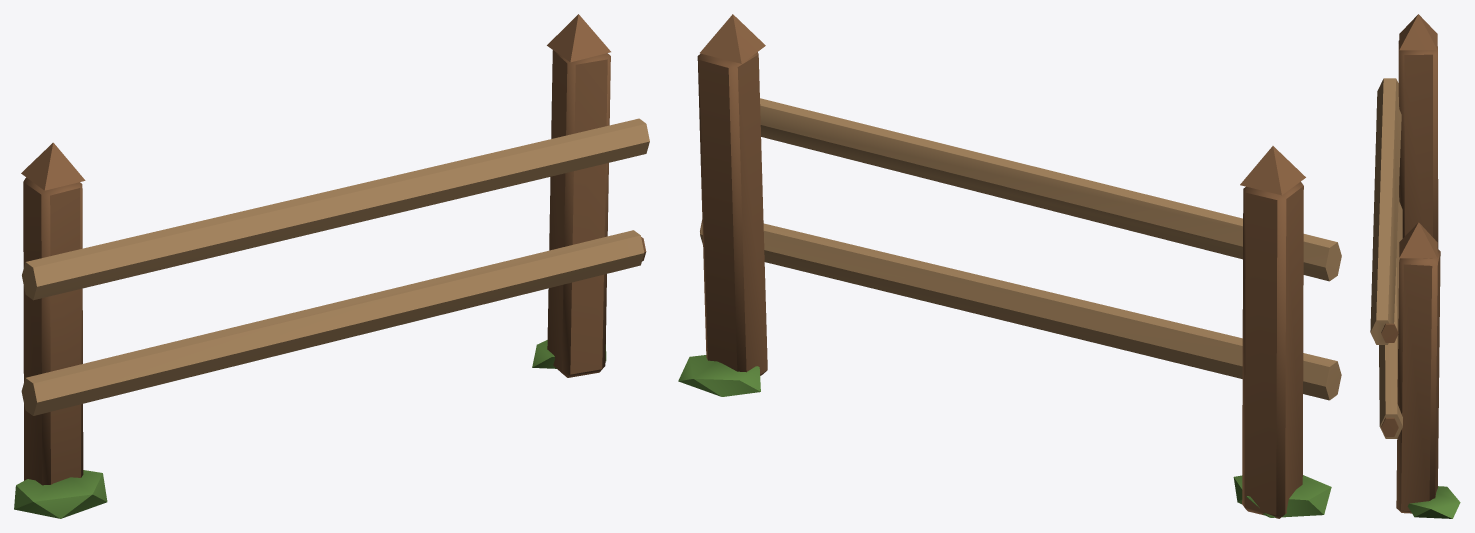
The model's file is fence.glb.
The picture shows the model from 3 angles, left to right: view 1: azimuth 30°, elevation 25°; view 2: azimuth 150°, elevation 25°; view 3: azimuth 270°, elevation 25°; orthographic projection. The views are drawn at different scales.
Visible parts, largest first — view 1: fence; view 2: fence; view 3: fence.
Part boxes in pixels (box(x1,y1,x2,y2)): fence: box(14, 14, 649, 518); fence: box(678, 14, 1341, 518); fence: box(1370, 14, 1460, 518).
Size of the model in its own units: 2.22 by 1.25 by 0.3475.
